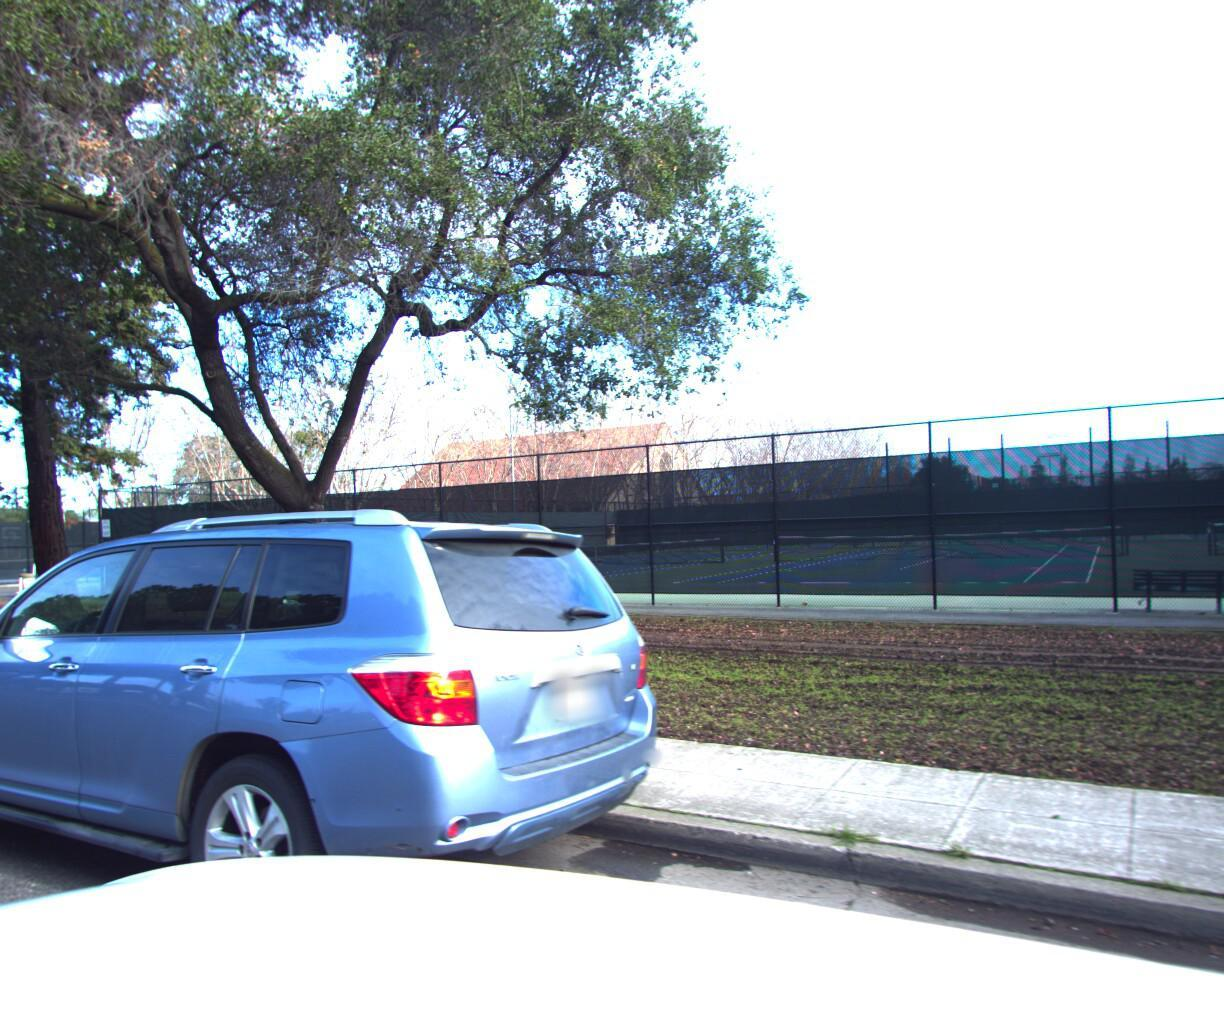car: (0, 477, 699, 1024)
